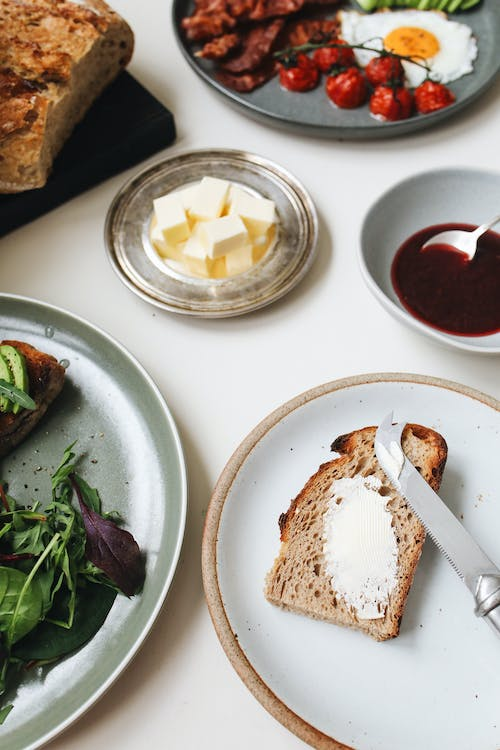knife: (372, 407, 500, 643)
